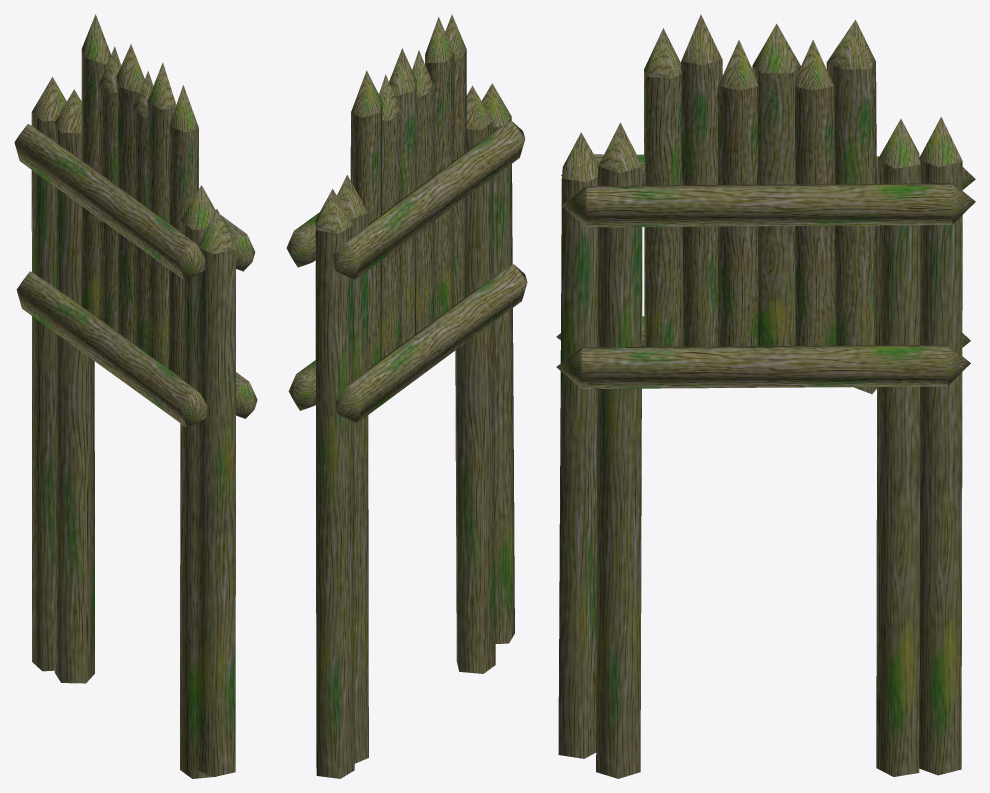
File: gate.obj
3 views of the same model, side by side, from view 1: azimuth 30°, elevation 25°; view 2: azimuth 150°, elevation 25°; view 3: azimuth 270°, elevation 25° (orthographic). The views are drawn at different scales.
Parts seen in each view (by area): view 1: Duplicate13, Duplicate09, Duplicate10, Duplicate02, Duplicate12, Duplicate00, Cylinder01, Duplicate08, Duplicate11, Duplicate06, Duplicate07, Duplicate05 (+1 smaller); view 2: Duplicate10, Duplicate12, Duplicate02, Duplicate13, Duplicate00, Duplicate09, Duplicate08, Cylinder01, Duplicate07, Duplicate05, Duplicate06, Duplicate11 (+1 smaller); view 3: Duplicate12, Duplicate09, Duplicate10, Duplicate13, Duplicate02, Duplicate01, Duplicate08, Duplicate06, Duplicate11, Duplicate05, Cylinder01, Duplicate07.
Boxes of the visible parts, x1,y1,x2,y2 form: Duplicate13: [196, 209, 235, 776]; Duplicate09: [54, 89, 94, 683]; Duplicate10: [31, 77, 66, 671]; Duplicate02: [14, 124, 255, 279]; Duplicate12: [180, 185, 216, 778]; Duplicate00: [16, 271, 207, 427]; Cylinder01: [146, 62, 176, 368]; Duplicate08: [80, 14, 110, 318]; Duplicate11: [169, 85, 198, 376]; Duplicate06: [116, 44, 144, 342]; Duplicate07: [99, 46, 121, 331]; Duplicate05: [132, 71, 153, 352]; Duplicate10: [315, 189, 354, 778]; Duplicate12: [455, 85, 495, 673]; Duplicate02: [286, 121, 525, 279]; Duplicate13: [481, 83, 514, 643]; Duplicate00: [336, 264, 527, 422]; Duplicate09: [337, 175, 368, 763]; Duplicate08: [350, 70, 382, 368]; Cylinder01: [425, 17, 454, 319]; Duplicate07: [379, 74, 401, 358]; Duplicate05: [412, 50, 434, 333]; Duplicate06: [389, 48, 416, 343]; Duplicate11: [445, 14, 466, 305]; Duplicate12: [596, 122, 642, 778]; Duplicate09: [876, 119, 920, 776]; Duplicate10: [919, 117, 962, 775]; Duplicate13: [558, 132, 598, 758]; Duplicate02: [561, 154, 975, 227]; Duplicate01: [556, 345, 970, 388]; Duplicate08: [826, 20, 877, 393]; Duplicate06: [752, 23, 800, 346]; Duplicate11: [644, 28, 683, 346]; Duplicate05: [718, 40, 758, 346]; Cylinder01: [681, 14, 722, 346]; Duplicate07: [795, 39, 835, 345].
Bounding box in the file's own units: 12.08 × 103 × 52.04.
